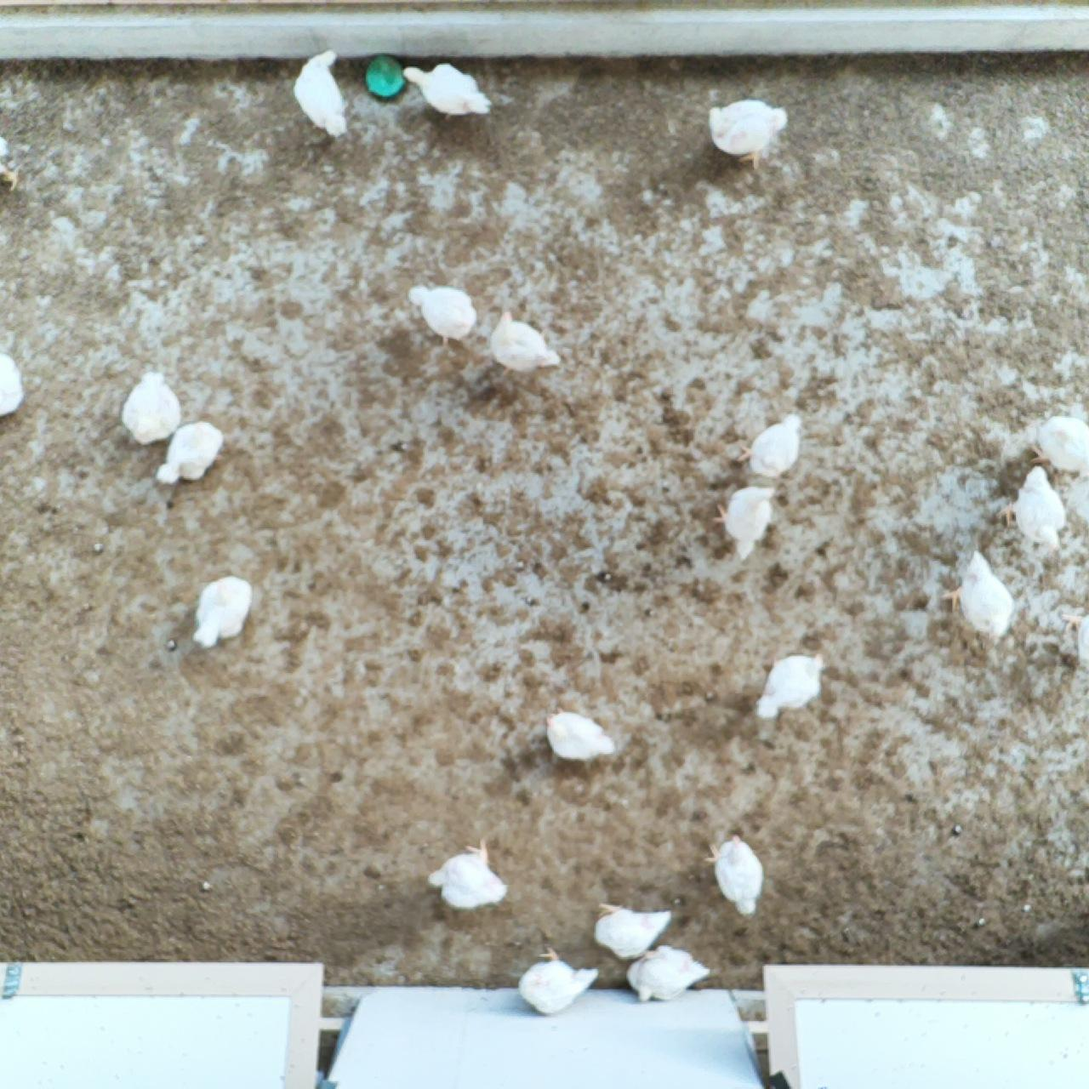chicken: (703, 90, 792, 173), (946, 549, 1018, 638), (516, 944, 600, 1018), (401, 56, 493, 122), (621, 940, 713, 1005), (998, 463, 1068, 548), (750, 646, 829, 721), (426, 839, 507, 912), (188, 570, 257, 654), (710, 482, 782, 561), (291, 47, 349, 143), (486, 305, 566, 374), (119, 366, 184, 448), (152, 418, 225, 490), (706, 832, 767, 918), (593, 901, 676, 964), (406, 283, 480, 347), (1026, 412, 1089, 473), (543, 706, 615, 757), (1057, 608, 1089, 663), (0, 353, 26, 418), (0, 129, 24, 195)
